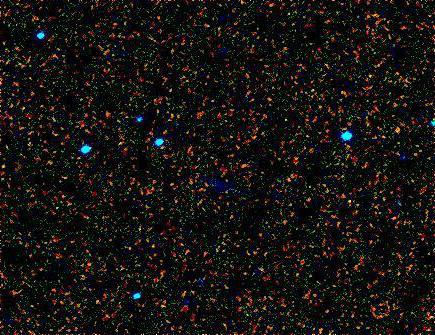star: (383, 116, 413, 146)
